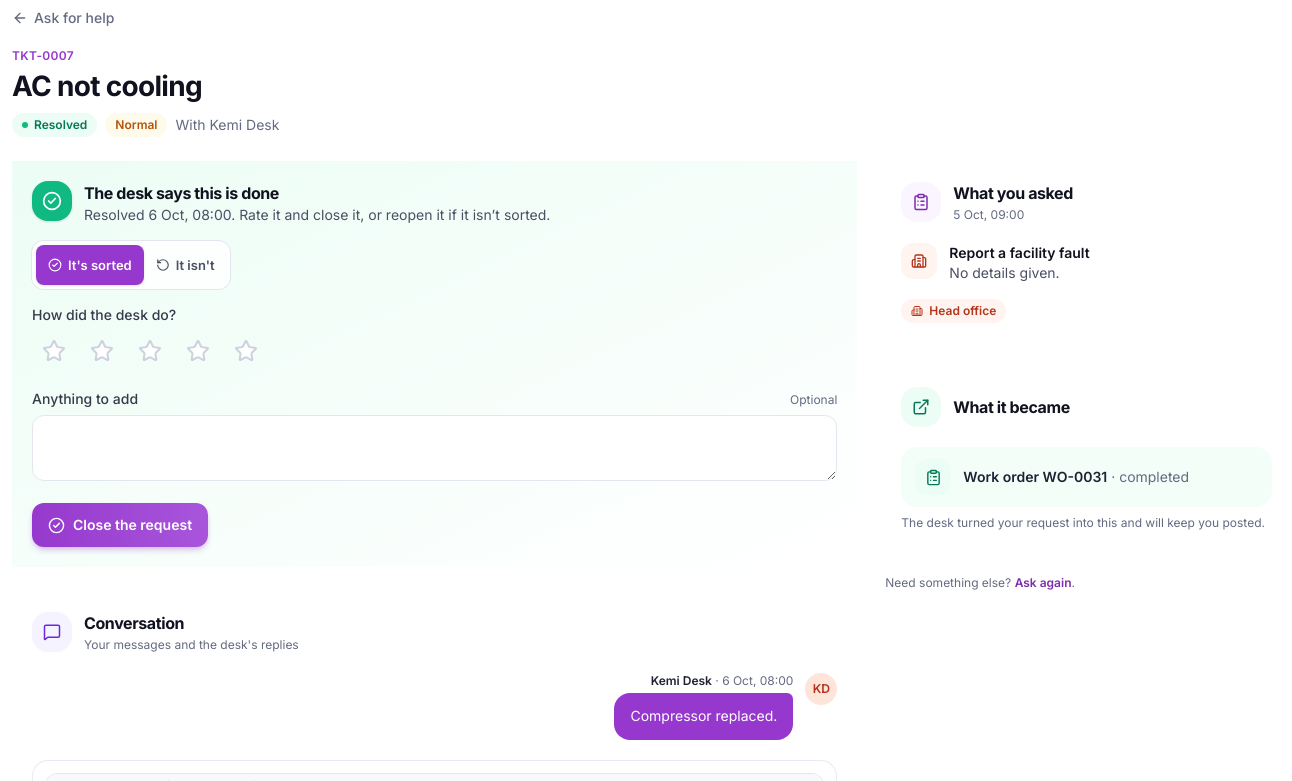
Scenario: MyHelpDetail › closes a resolved request with a rating, or insists on a reason to reopen
The width and height of the screenshot is (1292, 781).
Expected: the heading "The desk says this is done" is shown, [84, 183, 279, 203]
Expected: the text "Work order WO-0031" is shown, [963, 468, 1107, 485]
Click the radio button labelled "It isn't" at (185, 265), box [144, 245, 226, 285]
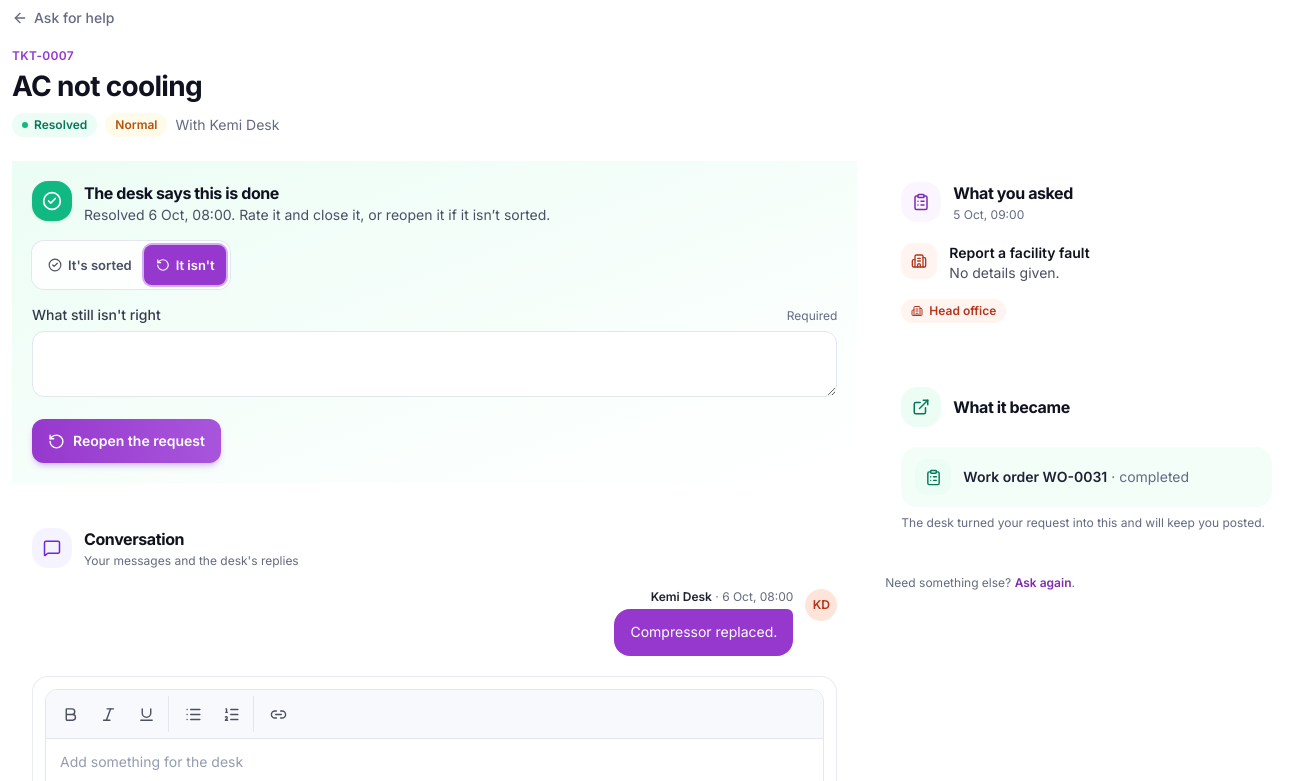
Click the button "Reopen the request" at (126, 441), box [32, 419, 221, 463]
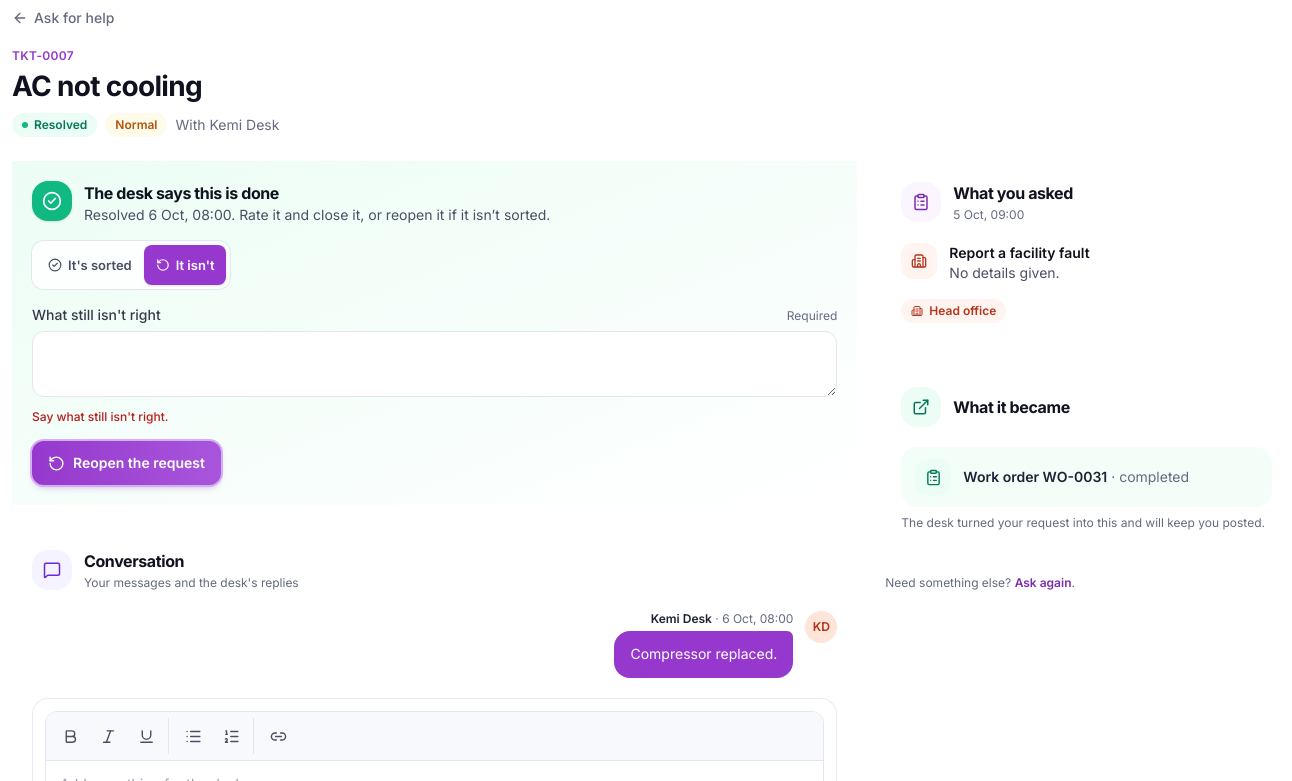
Result: the text "Say what still isn't right." is shown at [32, 409, 168, 424]
Click the radio button labelled "It's sorted" at (90, 265), box [36, 245, 144, 285]
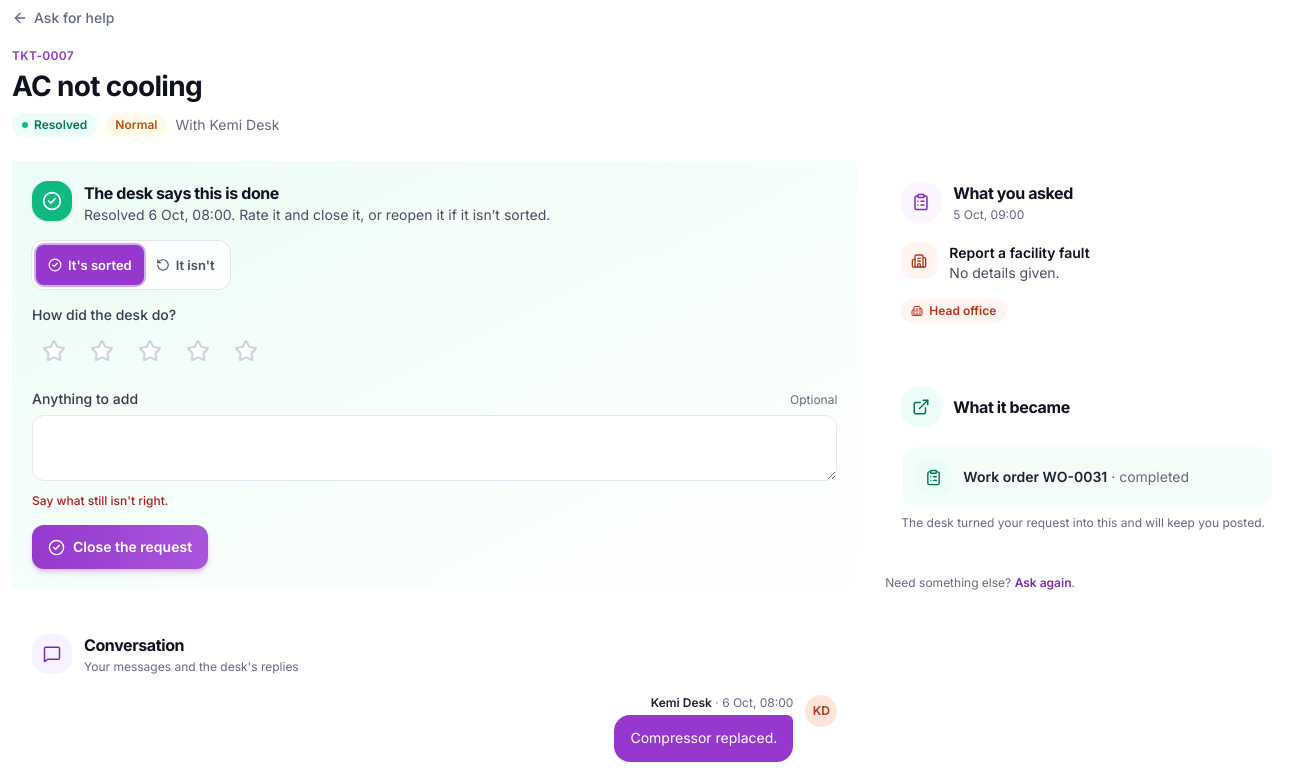
Click the radio button named "5 of 5" at (246, 351), box [224, 329, 268, 373]
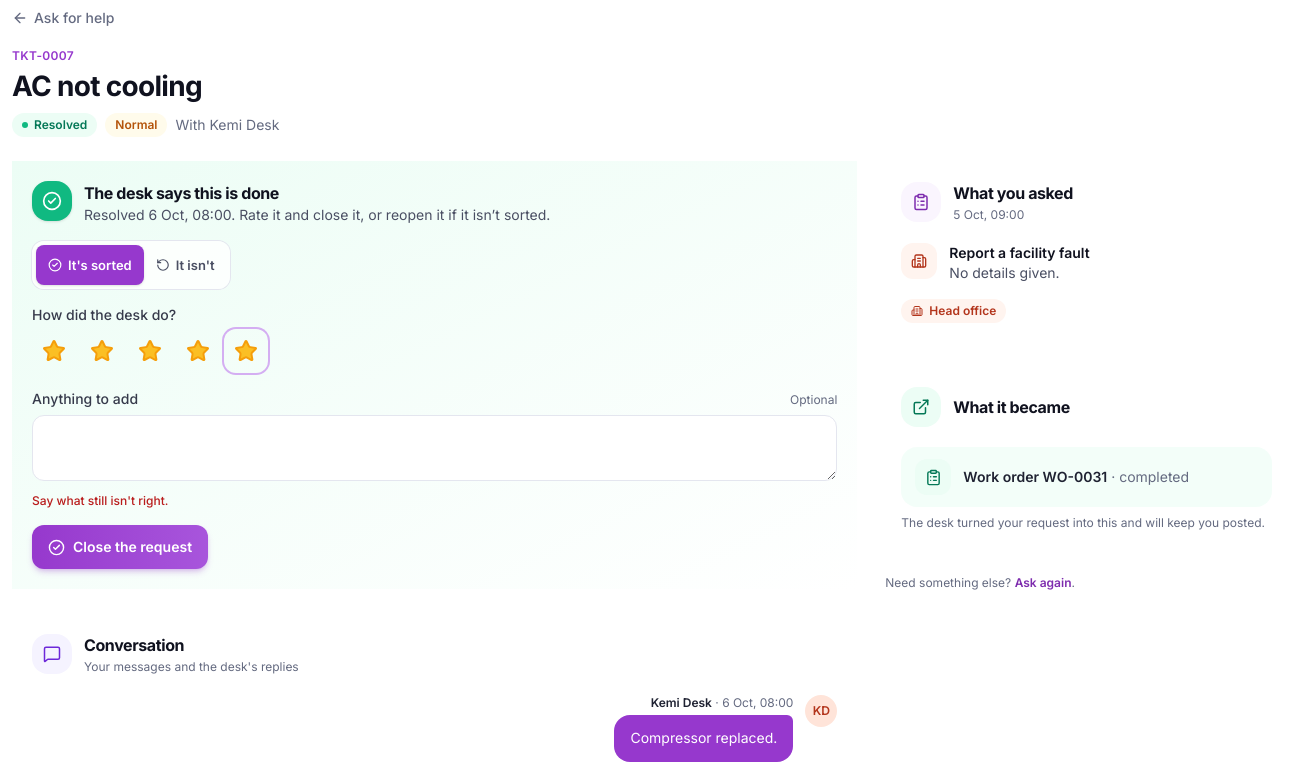
Click the button "Close the request" at (120, 547), box [32, 525, 208, 569]
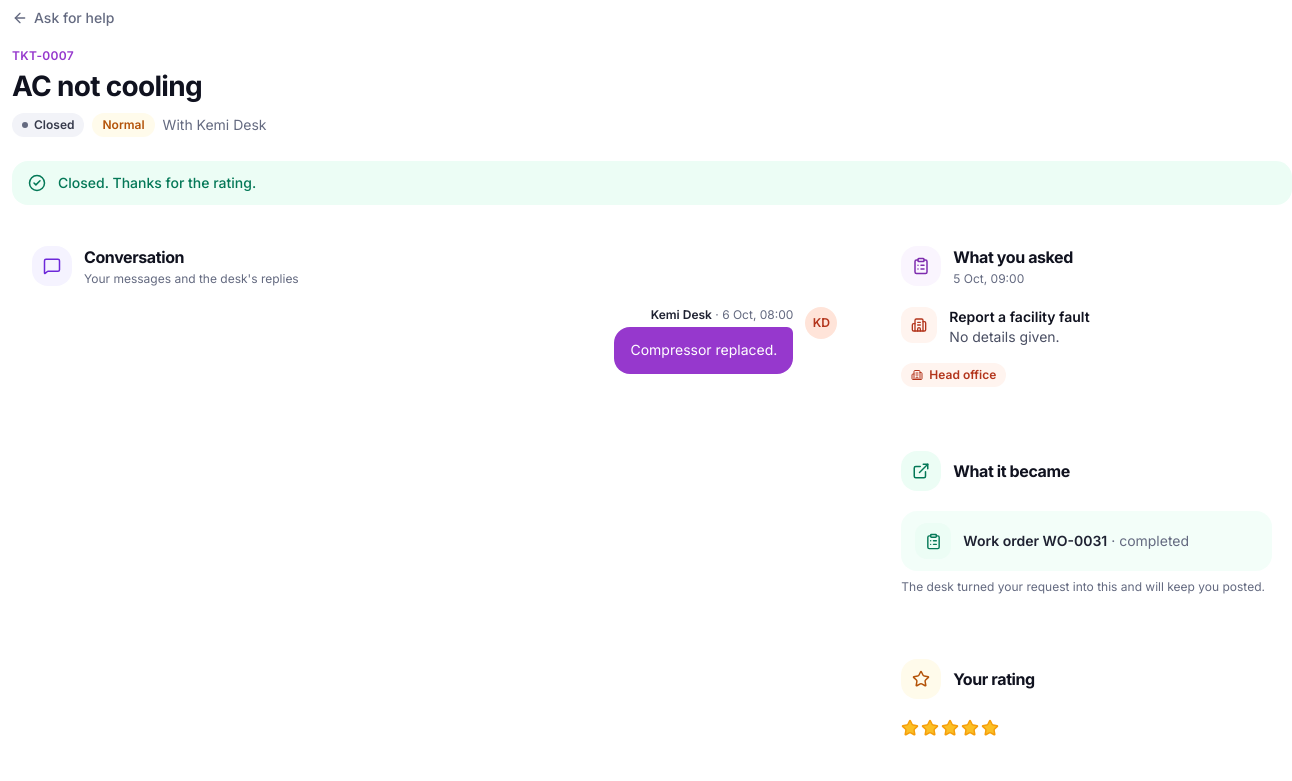
Result: the picture named "Rated 5 of 5" is shown at [901, 719, 999, 737]
